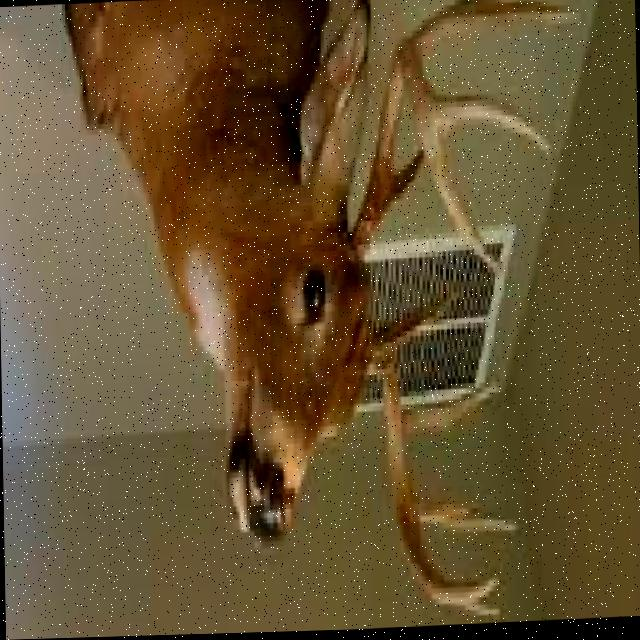E1: (449, 602, 502, 625)
L-F: (364, 336, 501, 607)
L-G1: (381, 289, 462, 350)
L-G2: (402, 386, 502, 438)
L-G3: (413, 500, 518, 537)
R-F: (346, 33, 506, 280)
R-G1: (386, 151, 424, 206)
R-G3: (414, 3, 580, 60)
R-G4: (434, 95, 553, 158)
